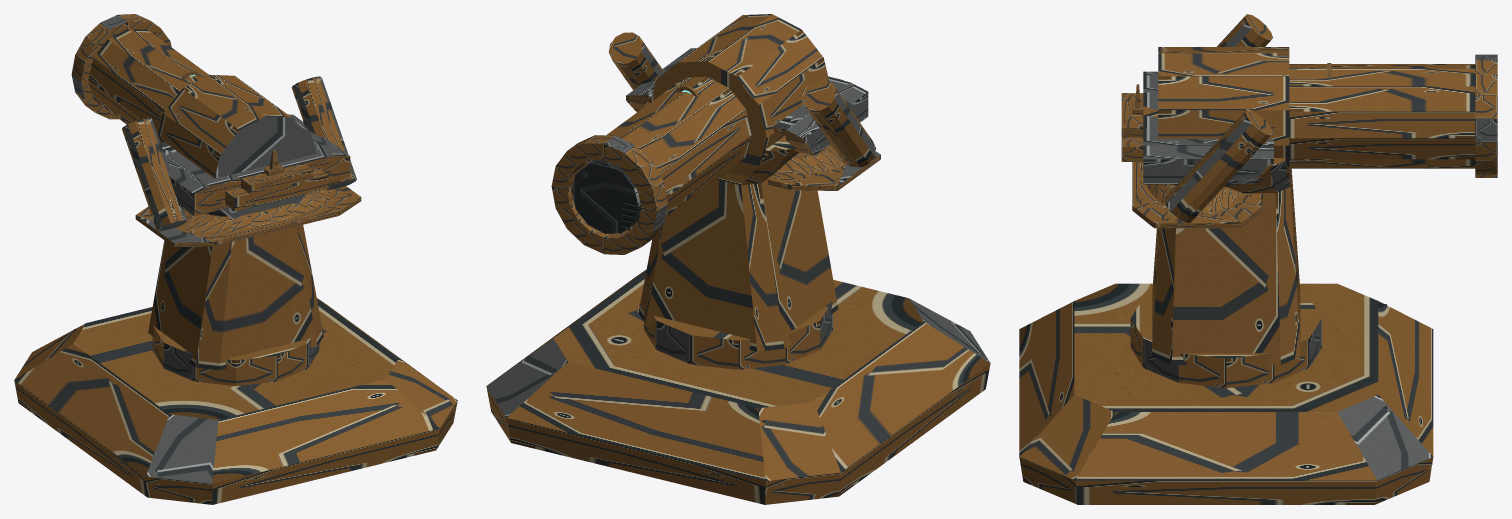
File: fixed_mortar.glb
The picture shows the model from 3 angles, left to right: view 1: azimuth 30°, elevation 25°; view 2: azimuth 150°, elevation 25°; view 3: azimuth 270°, elevation 25°; orthographic projection. The views are drawn at different scales.
Parts seen in each view (by area): view 1: STProp_fixed_mortar_Body, STProp_fixed_mortar_HeadMesh; view 2: STProp_fixed_mortar_Body, STProp_fixed_mortar_HeadMesh; view 3: STProp_fixed_mortar_Body, STProp_fixed_mortar_HeadMesh.
Boxes of the visible parts, x1=… form: STProp_fixed_mortar_Body: x1=14, y1=210, x2=457, y2=504; STProp_fixed_mortar_HeadMesh: x1=71, y1=14, x2=361, y2=246; STProp_fixed_mortar_Body: x1=486, y1=136, x2=990, y2=504; STProp_fixed_mortar_HeadMesh: x1=551, y1=14, x2=880, y2=254; STProp_fixed_mortar_Body: x1=1019, y1=158, x2=1433, y2=504; STProp_fixed_mortar_HeadMesh: x1=1121, y1=14, x2=1497, y2=228.
Bounding box in the file's own units: 3.16 × 3.08 × 3.65.
Materials: 5 (4 with a texture image).
